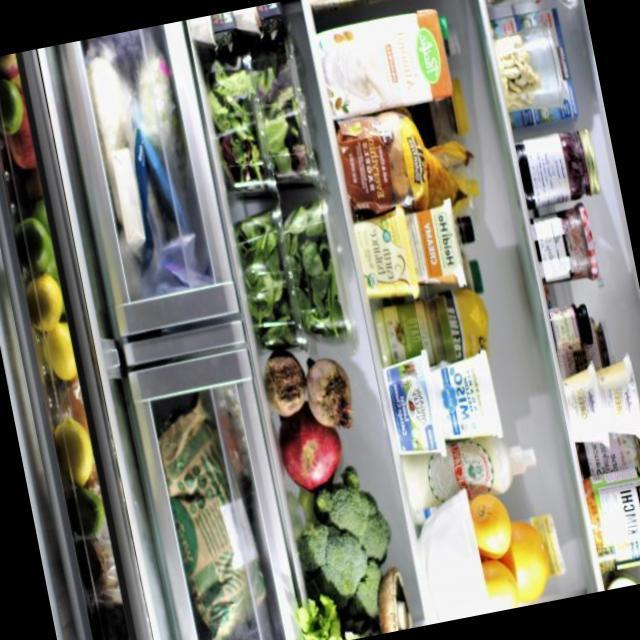Brocoli: (290, 473, 394, 602)
Champiñones: (372, 570, 413, 634)
Limón: (502, 513, 556, 605), (470, 490, 514, 559), (54, 416, 96, 488), (25, 271, 65, 329), (41, 325, 79, 385), (481, 554, 519, 613)
Manzana: (277, 407, 348, 493), (14, 215, 53, 277), (0, 75, 27, 138)
Yogur: (380, 348, 448, 463), (430, 349, 504, 448), (561, 361, 611, 455), (594, 354, 640, 447)
bread: (334, 103, 444, 219)
milk: (317, 6, 458, 120)
parsley: (302, 599, 345, 640)
